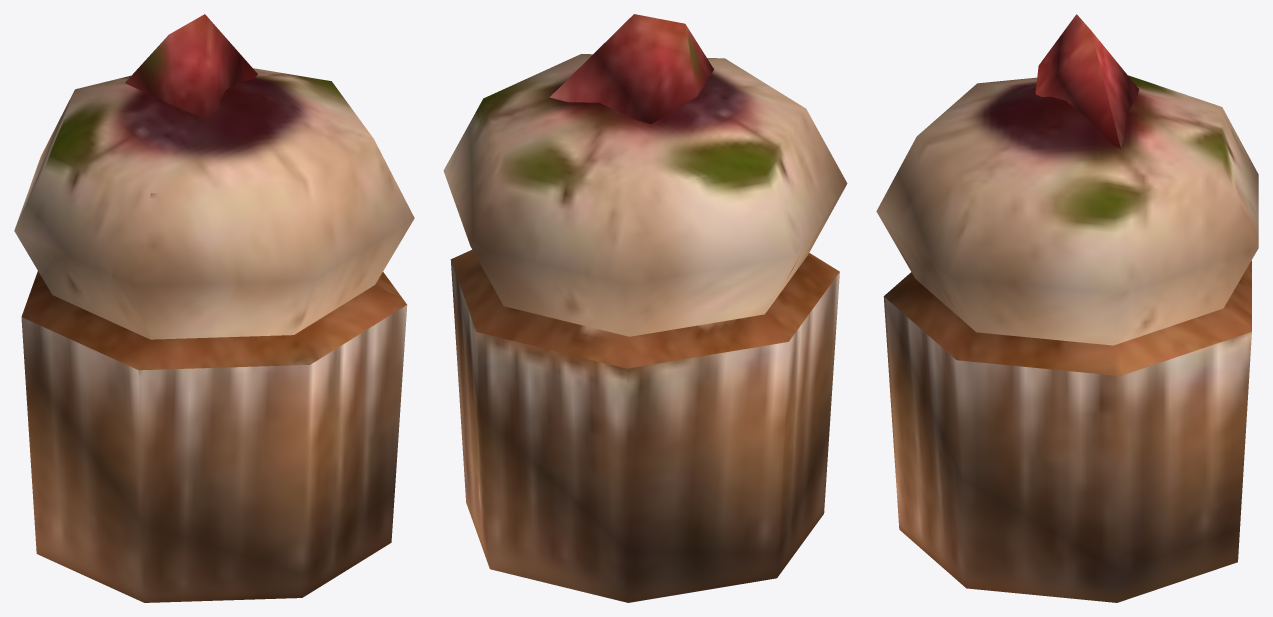
File: Cupcake.fbx
The picture shows the model from 3 angles, left to right: view 1: azimuth 30°, elevation 25°; view 2: azimuth 150°, elevation 25°; view 3: azimuth 270°, elevation 25°; orthographic projection. The views are drawn at different scales.
Visible parts, largest first — view 1: Cupcake; view 2: Cupcake; view 3: Cupcake.
Part boxes in pixels (x1,y1,x2,y2): Cupcake: (14, 14, 414, 602); Cupcake: (443, 14, 847, 602); Cupcake: (876, 14, 1258, 602).
Size of the model in its own units: 8.7 by 12.24 by 8.48.
